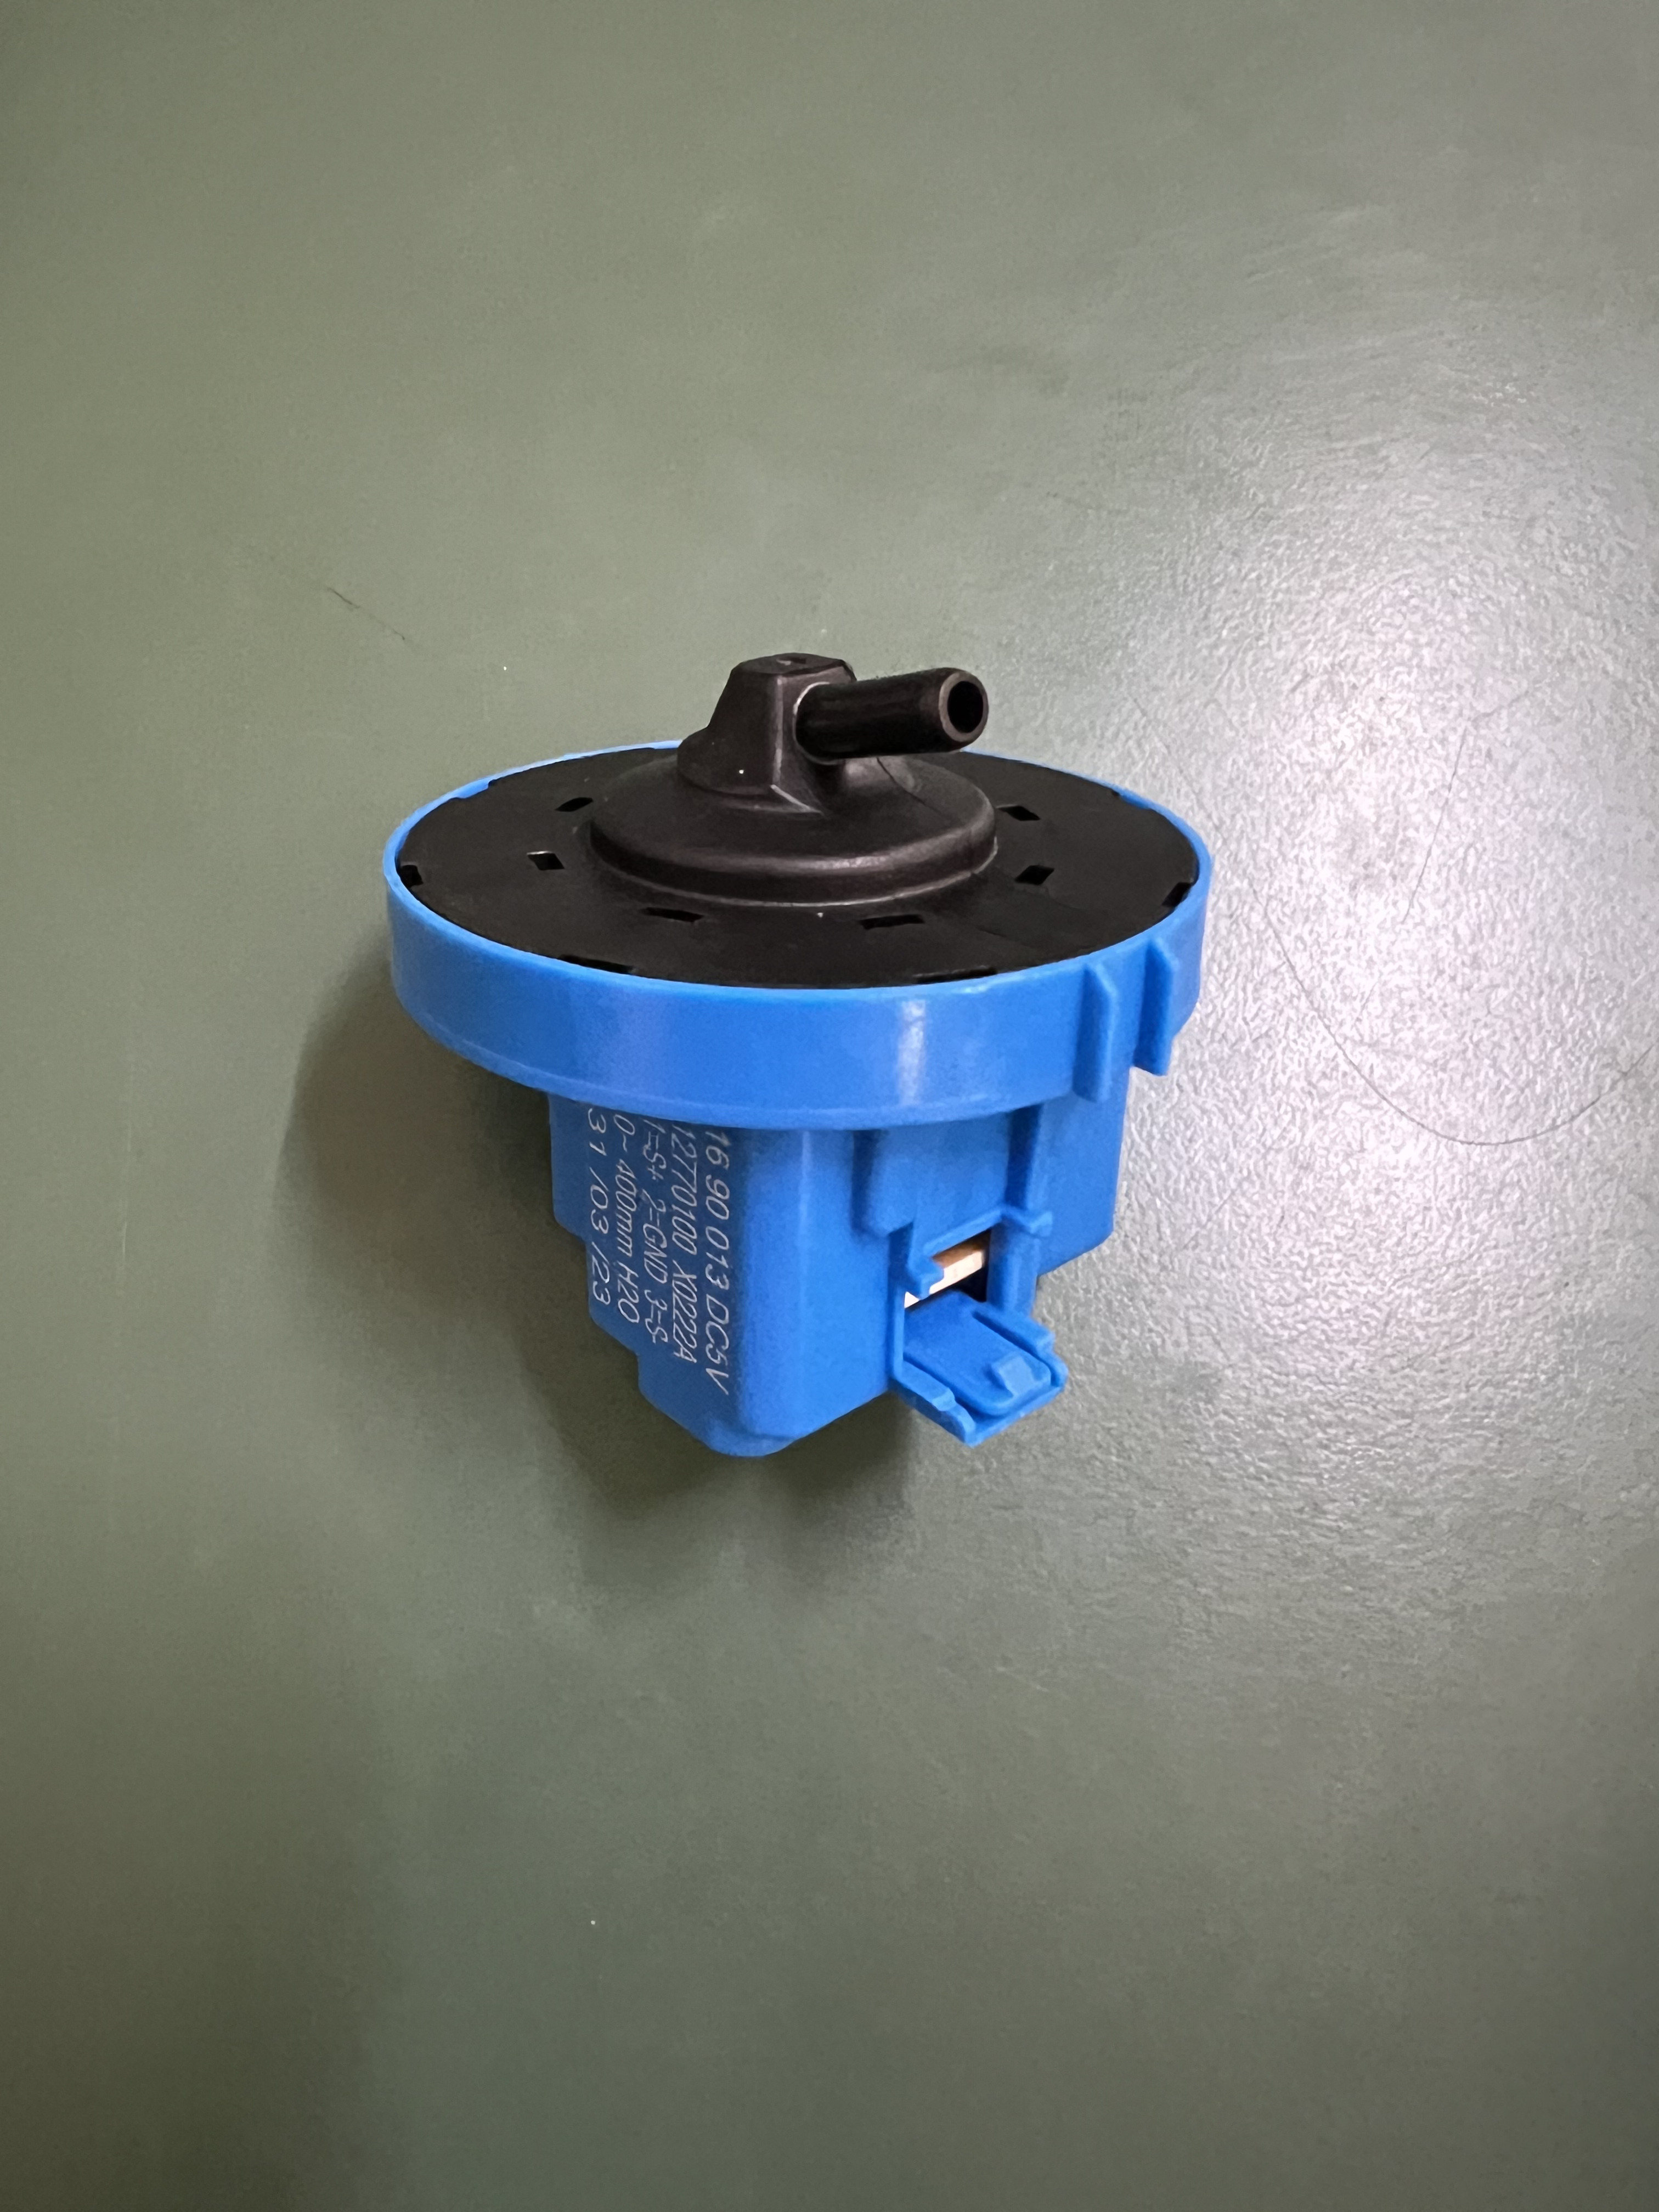voltas_beko_pressure_switch: (361, 631, 1230, 1493)
